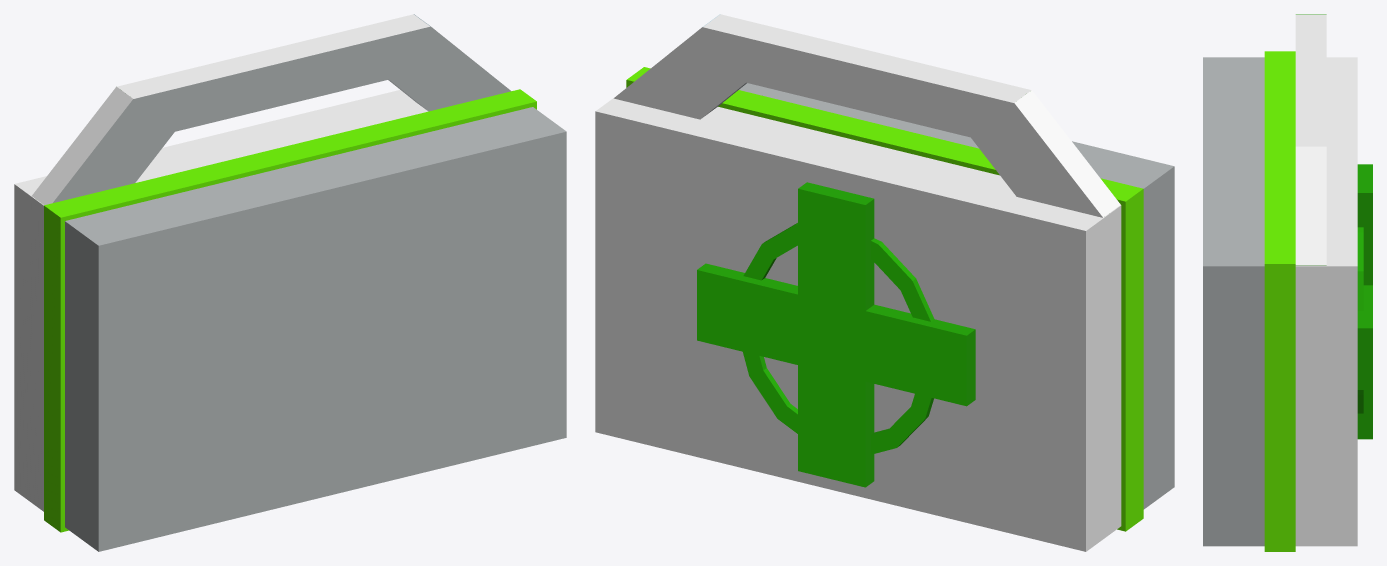
Rendered from health_pack.fbx.
3 renders of one model, left to right at view 1: azimuth 30°, elevation 25°; view 2: azimuth 150°, elevation 25°; view 3: azimuth 270°, elevation 25°, orthographic. The views are drawn at different scales.
Parts seen in each view (by area): view 1: cube; view 2: cube; view 3: cube.
Boxes of the visible parts, x1,y1,x2,y2 form: cube: (14, 14, 566, 551); cube: (595, 14, 1174, 551); cube: (1203, 14, 1372, 551).
Bounding box in the file's own units: 102 × 81.55 × 34.38.
1 material, 1 textured.
